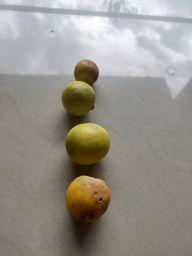lemon: (64, 176, 111, 223), (65, 122, 111, 165), (63, 81, 95, 117), (74, 59, 99, 84)
